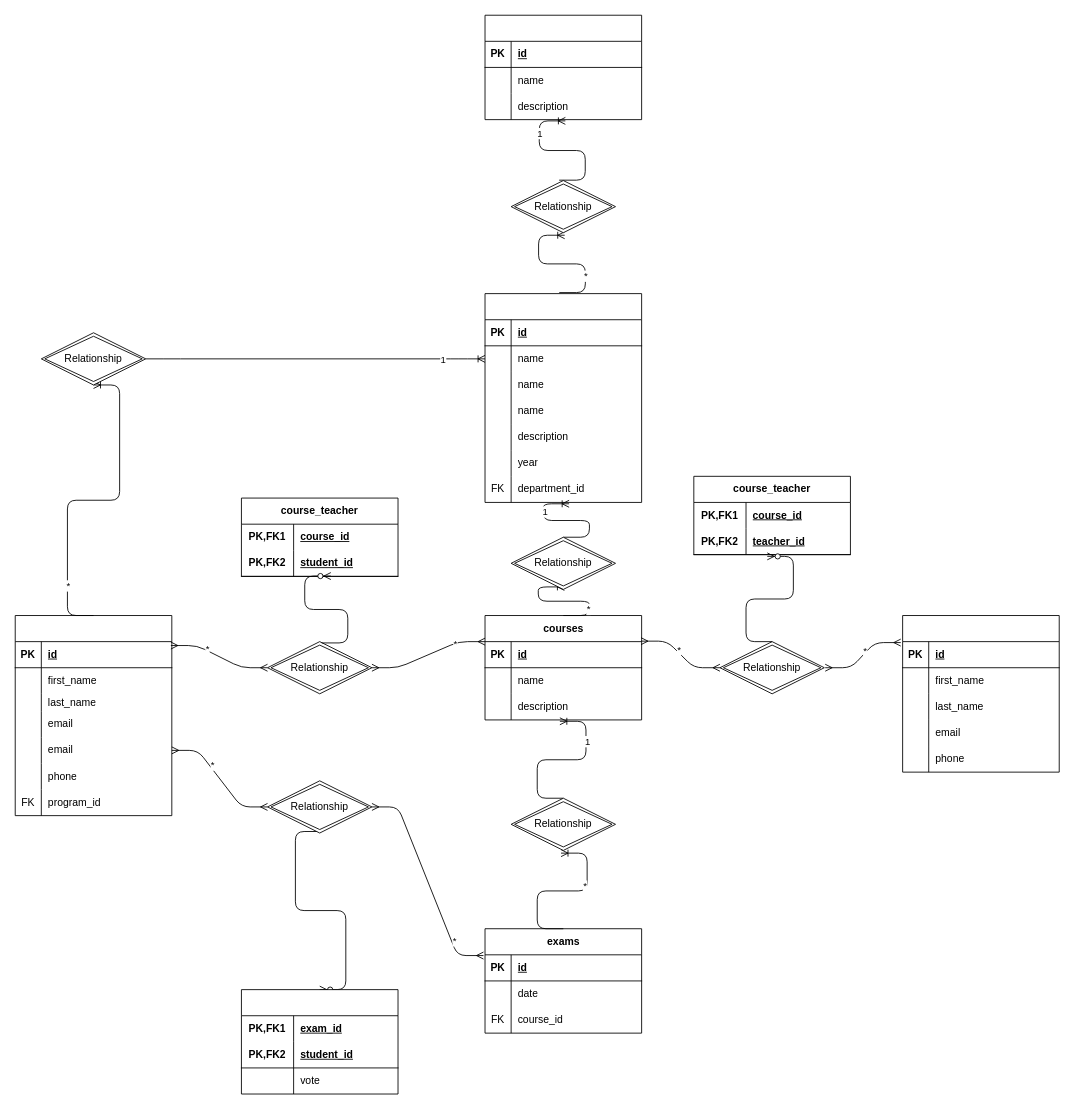
Some shapes in this 1074 by 1109 pixel diagram are drawn without their labels. Here are the shapes that lost their labels. From the top down, the box of each, then its label:
(484, 14, 642, 120): departments
(484, 293, 642, 502): courses_degrees
(902, 615, 1059, 772): teachers
(14, 615, 172, 816): students
(241, 989, 398, 1094): student_exam
